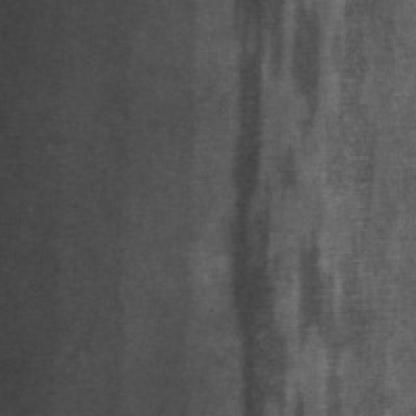inclusion: (227, 0, 341, 410)
